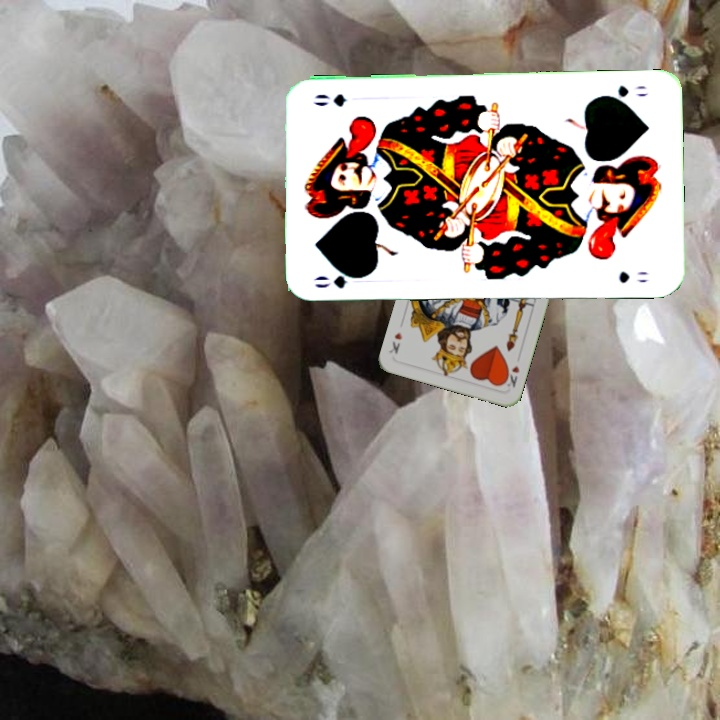GO: (310, 268, 369, 291), (597, 81, 650, 104)
HK: (500, 362, 522, 390)
